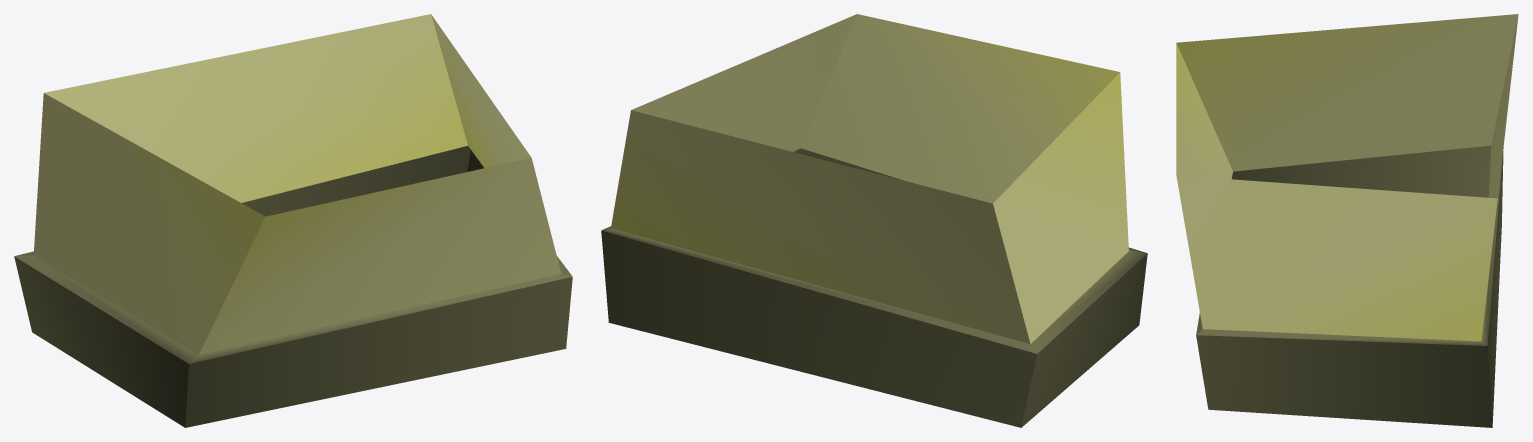
File: c_house_body_square_ac.fbx
The picture shows the model from 3 angles, left to right: view 1: azimuth 30°, elevation 25°; view 2: azimuth 150°, elevation 25°; view 3: azimuth 270°, elevation 25°; orthographic projection. The views are drawn at different scales.
Visible parts, largest first — view 1: c_house_body_square_ac; view 2: c_house_body_square_ac; view 3: c_house_body_square_ac.
Boxes of the visible parts, box(x1,y1,x2,y2) form: c_house_body_square_ac: box(14, 14, 572, 427); c_house_body_square_ac: box(601, 14, 1147, 427); c_house_body_square_ac: box(1176, 14, 1518, 427).
Size of the model in its own units: 8.77 by 4.26 by 5.93.
